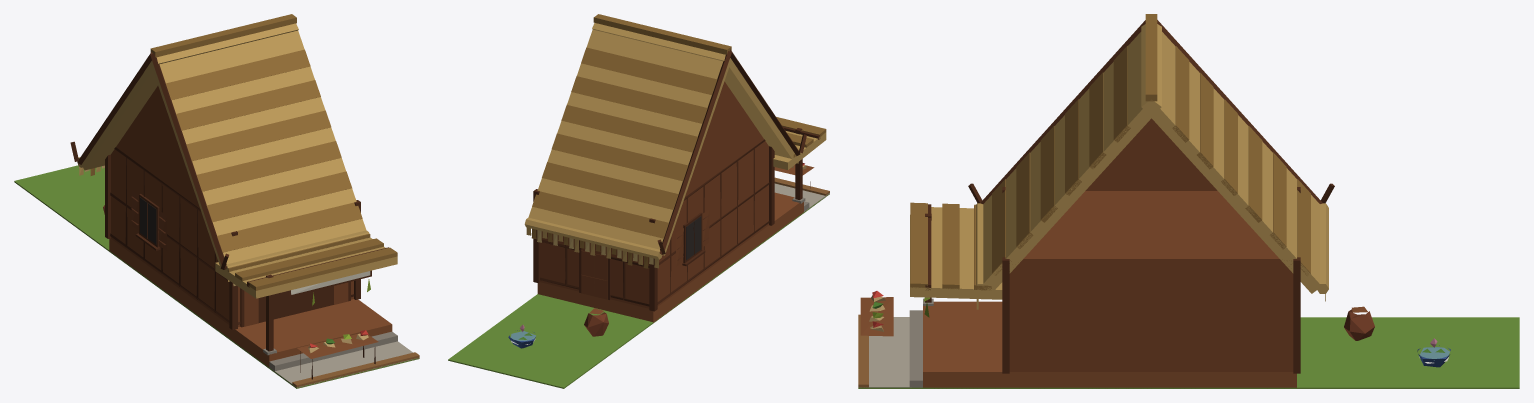
Rendered from bay1_left.glb.
3 renders of one model, left to right at view 1: azimuth 30°, elevation 25°; view 2: azimuth 150°, elevation 25°; view 3: azimuth 270°, elevation 25°, orthographic. The views are drawn at different scales.
Parts seen in each view (by area): view 1: body, windows; view 2: body, windows; view 3: body.
Boxes of the visible parts, bbox=[...] form: body: bbox=[14, 14, 419, 388]; windows: bbox=[140, 197, 156, 244]; body: bbox=[448, 14, 829, 388]; windows: bbox=[686, 216, 701, 260]; body: bbox=[858, 14, 1519, 388].
Size of the model in its own units: 4.86 by 7.81 by 15.9.
